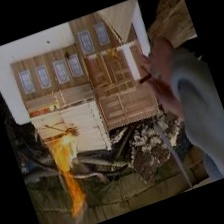fire: (43, 134, 100, 217)
